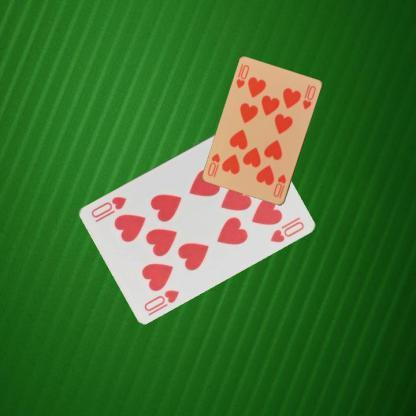10h: (142, 286, 180, 312), (233, 63, 251, 90), (270, 172, 288, 198)
